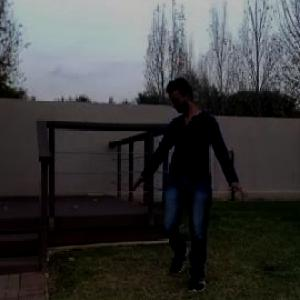land: (132, 74, 240, 299)
